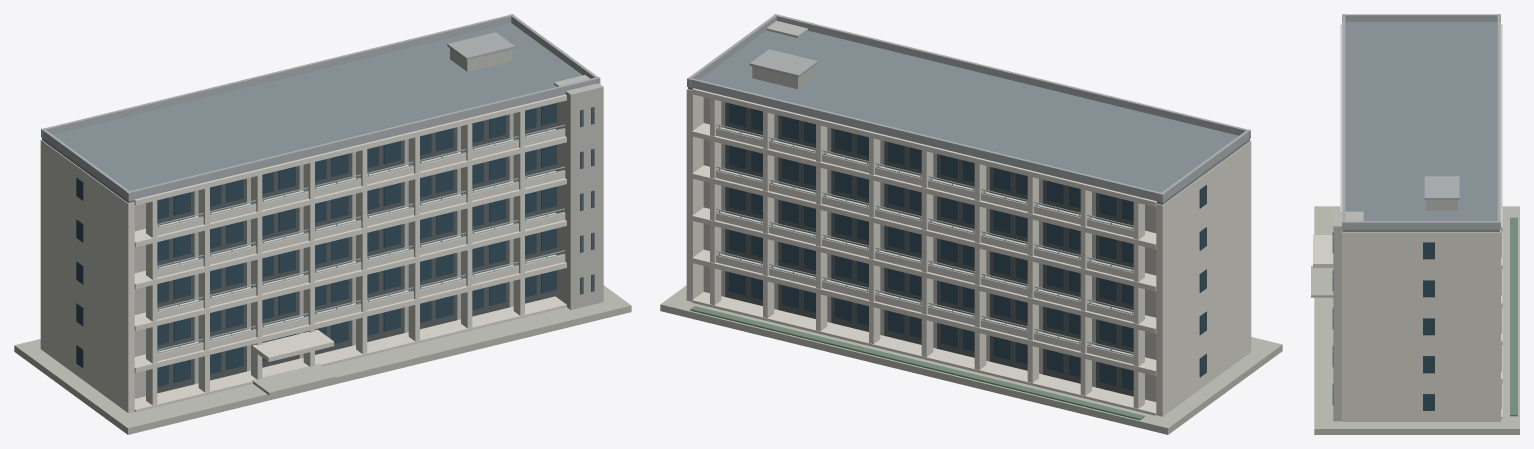
The picture shows the model from 3 angles, left to right: view 1: azimuth 30°, elevation 25°; view 2: azimuth 150°, elevation 25°; view 3: azimuth 270°, elevation 25°; orthographic projection. The views are drawn at different scales.
Bounding box in the file's own units: 38.4 × 17.1 × 15.23.
